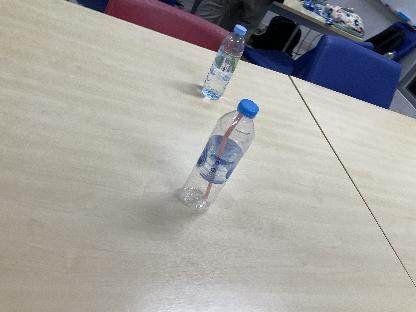Plastic Bottle: (180, 97, 258, 213), (201, 23, 247, 100)
